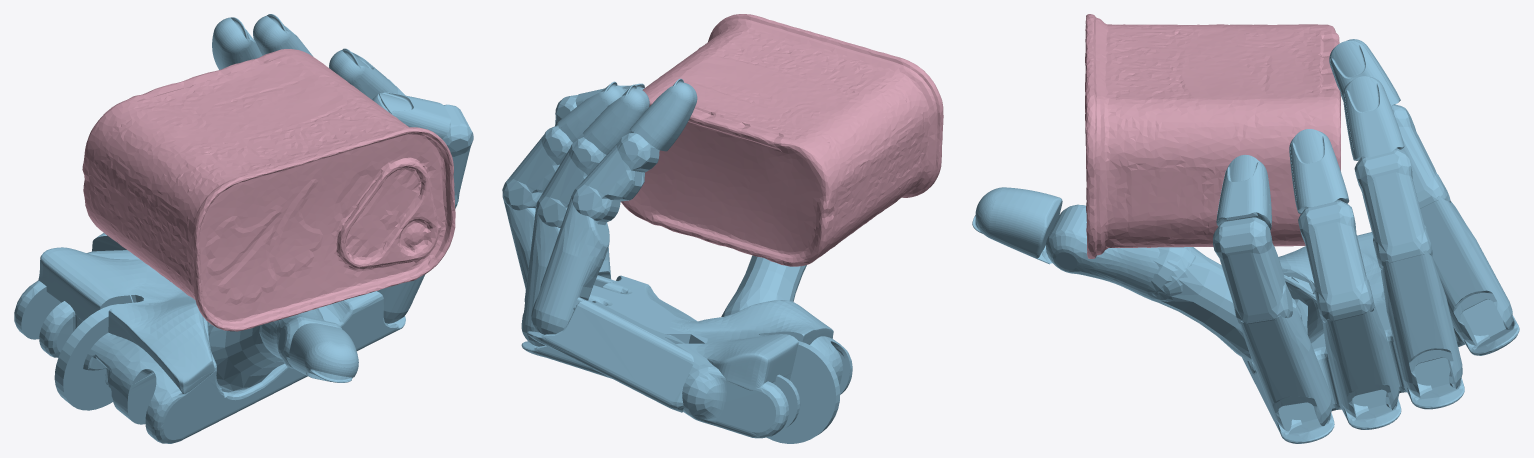
3 renders of one model, left to right at view 1: azimuth 30°, elevation 25°; view 2: azimuth 150°, elevation 25°; view 3: azimuth 270°, elevation 25°, orthographic. The views are drawn at different scales.
Visible parts, largest first — view 1: world; view 2: world; view 3: world.
Boxes of the visible parts, x1,y1,x2,y2 form: world: (14, 14, 473, 443); world: (502, 14, 943, 443); world: (972, 14, 1519, 443).
Bounding box in the file's own units: 0.1438 × 0.1355 × 0.1784.
